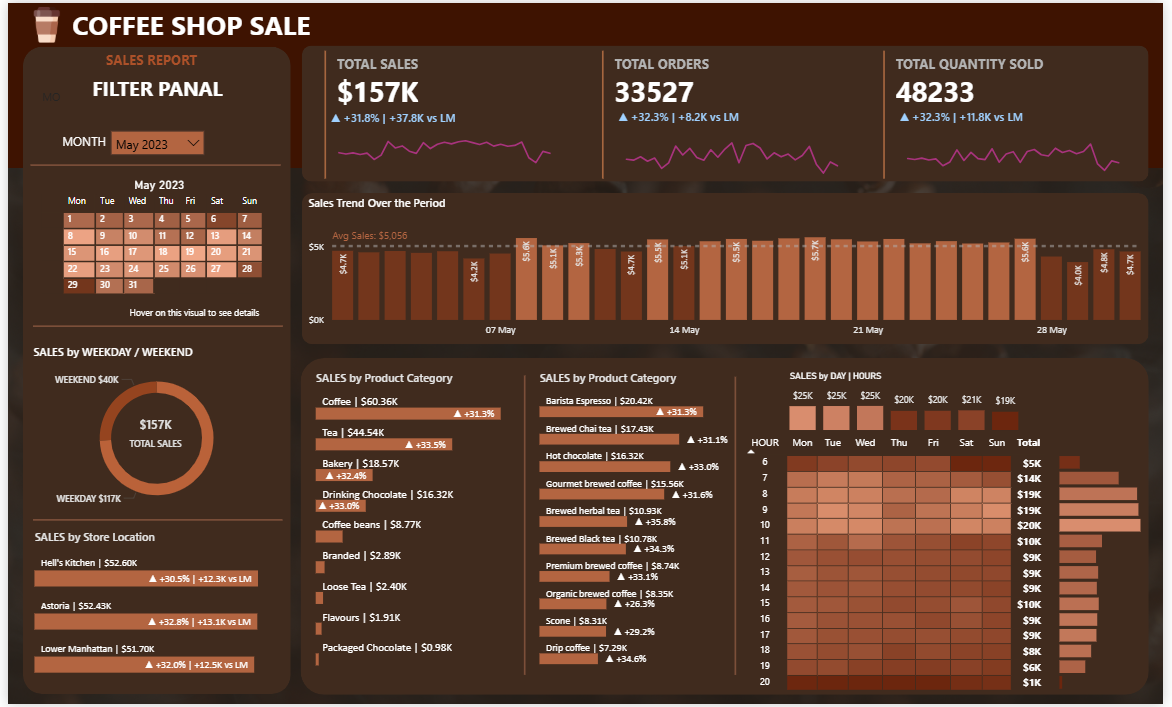

The dashboard page shown, as its layout file describes it:
{"tool":"powerbi","page":{"name":"COFFEE SHOP SALES DASHBOARD","canvas":[1400,850],"ordinal":0},"visuals":[{"type":"shape","box":[0,0,1400,200],"z":0},{"type":"pivotTable","fields":{"Rows":["DATE TABLE.WEEK NUMBER"],"Columns":["DATE TABLE.DAY NAME"],"Values":["Min(DATE TABLE.DAY NUMBER)"]},"box":[36.7,227.1,292.9,164.3],"z":0,"group":"g4"},{"type":"shape","box":[17.8,53.3,324.4,784.4],"z":1000},{"type":"card","fields":{"Values":["Min(DATE TABLE.MONTH YEAR)"]},"box":[115.3,200,137.1,44.3],"z":1000,"group":"g4"},{"type":"shape","box":[356.7,51.7,1026.7,165],"z":2000},{"type":"card","fields":{"Values":["Transactions.foot note"]},"box":[133.2,356.7,185.6,45.6],"z":2000,"group":"g4"},{"type":"textbox","box":[73,0,311.7,53.3],"z":3000},{"type":"cardVisual","fields":{"Data":["Transactions.TOTAL SALES"]},"box":[378.6,52.4,300,165.7],"z":4000,"group":"g1"},{"type":"cardVisual","fields":{"Data":["Transactions.total orders"]},"box":[714.5,52.4,300,165.7],"z":4000,"group":"g2"},{"type":"cardVisual","fields":{"Data":["Transactions.TOTAL QUANTITY SOLD"]},"box":[1056.1,52.4,300,165.7],"z":4000,"group":"g3"},{"type":"slicer","fields":{"Values":["DATE TABLE.MONTH YEAR"]},"box":[120,150,123.3,38.3],"z":4000},{"type":"group","id":"g1","title":"Group 1","box":[378.6,52.4,300,165.7],"z":5000},{"type":"group","id":"g2","title":"Group 1","box":[714.5,52.4,305.7,165.7],"z":6000},{"type":"lineChart","fields":{"Category":["DATE TABLE.Date.Variation.Date Hierarchy.Year","DATE TABLE.Date.Variation.Date Hierarchy.Quarter","DATE TABLE.Date.Variation.Date Hierarchy.Month","DATE TABLE.Date.Variation.Date Hierarchy.Day"],"Y":["Transactions.TOTAL ORDERS"]},"box":[734.5,128.5,285.7,84.3],"z":6000,"group":"g2"},{"type":"lineChart","fields":{"Category":["DATE TABLE.Date.Variation.Date Hierarchy.Year","DATE TABLE.Date.Variation.Date Hierarchy.Quarter","DATE TABLE.Date.Variation.Date Hierarchy.Month","DATE TABLE.Date.Variation.Date Hierarchy.Day"],"Y":["Transactions.TOTAL QUANTITY SOLD"]},"box":[1076.1,128.5,285.7,84.3],"z":6000,"group":"g3"},{"type":"lineChart","fields":{"Category":["DATE TABLE.Date.Variation.Date Hierarchy.Year","DATE TABLE.Date.Variation.Date Hierarchy.Quarter","DATE TABLE.Date.Variation.Date Hierarchy.Month","DATE TABLE.Date.Variation.Date Hierarchy.Day"],"Y":["Transactions.TOTAL SALES"]},"box":[385.7,129.5,285.7,84.3],"z":6000,"group":"g1"},{"type":"group","id":"g3","title":"Group 1","box":[1056.1,52.4,305.7,165.7],"z":7000},{"type":"group","id":"g4","title":"Group 2","box":[36.7,200,293.3,202.2],"z":8000},{"type":"shape","box":[30,380,302.9,22.9],"z":9000},{"type":"shape","box":[26.7,185,303.3,23.3],"z":10000},{"type":"donutChart","title":"SALES by WEEKDAY / WEEKEND","fields":{"Category":["DATE TABLE.WEEKDAY / WEEKEND"],"Y":["Transactions.TOTAL SALES"]},"box":[25.5,413.6,309.1,210.9],"z":11000},{"type":"card","fields":{"Values":["Transactions.TOTAL SALES"]},"box":[131.8,485.5,94.5,70],"z":12000},{"type":"shape","box":[30,615.5,302.7,22.7],"z":13000},{"type":"clusteredBarChart","title":"SALES by Store Location","fields":{"Category":["Transactions.store_location"],"Y":["Transactions.PLACEHOLDER","Transactions.TOTAL SALES"]},"box":[27.3,638.2,306.4,181.8],"z":14000},{"type":"shape","box":[356.7,230,1026.7,183.3],"z":15000},{"type":"columnChart","title":"Sales Trend Over the  Period","fields":{"Category":["Transactions.transaction_date"],"Y":["Transactions.TOTAL SALES"]},"box":[358.3,233.3,1025,180],"z":16000},{"type":"shape","box":[355,430,1028.3,408.3],"z":17000},{"type":"clusteredBarChart","title":"SALES by Product Category","fields":{"Y":["Transactions.PLACEHOLDER","Transactions.TOTAL SALES"],"Category":["Transactions.product_category"]},"box":[368.3,445,265,363.3],"z":18000},{"type":"shape","box":[622.9,451.4,7.1,362.9],"z":19000},{"type":"clusteredBarChart","title":"SALES by Product Category","fields":{"Y":["Transactions.PLACEHOLDER","Transactions.TOTAL SALES"],"Category":["Transactions.product_type"]},"box":[640,445,241.7,361.7],"z":20000},{"type":"shape","box":[878.6,452.9,5.7,361.4],"z":21000},{"type":"pivotTable","fields":{"Rows":["Transactions.HOUR"],"Columns":["DATE TABLE.DAY NAME"],"Values":["Transactions.TOTAL SALES"]},"box":[886.7,520,383.3,318.3],"z":22000},{"type":"barChart","fields":{"Category":["Transactions.HOUR"],"Y":["Transactions.TOTAL SALES"]},"box":[1270,536.7,110,300],"z":23000},{"type":"columnChart","title":"SALES by DAY | HOURS","fields":{"Y":["Transactions.TOTAL SALES"],"Category":["DATE TABLE.DAY NAME"]},"box":[941.7,445,288.3,78.3],"z":24000},{"type":"textbox","box":[36.7,100,83.3,35],"z":25000},{"type":"textbox","box":[60,153.3,71.7,35],"z":26000},{"type":"textbox","box":[96.7,81.7,201.7,53.3],"z":27000},{"type":"image","box":[18,0,58.3,53.3],"z":28000},{"type":"textbox","box":[113.3,53.3,138.3,35],"z":29000}]}

Visuals, with their boxes in screenshot pixels (x1, y1, x2, y2), scaled from the page's 1400x850 canvas onto the 1172x707 screenshot:
shape: x1=0 y1=0 x2=1171 y2=166
pivotTable - DATE TABLE.WEEK NUMBER x DATE TABLE.DAY NAME: x1=31 y1=189 x2=276 y2=326
shape: x1=15 y1=44 x2=286 y2=697
card - Min(DATE TABLE.MONTH YEAR): x1=97 y1=166 x2=211 y2=203
shape: x1=299 y1=43 x2=1158 y2=180
card - Transactions.foot note: x1=112 y1=297 x2=267 y2=335
textbox: x1=61 y1=0 x2=322 y2=44
cardVisual - Transactions.TOTAL SALES: x1=317 y1=44 x2=568 y2=181
cardVisual - Transactions.total orders: x1=598 y1=44 x2=849 y2=181
cardVisual - Transactions.TOTAL QUANTITY SOLD: x1=884 y1=44 x2=1135 y2=181
slicer - DATE TABLE.MONTH YEAR: x1=100 y1=125 x2=204 y2=157
"Group 1" group: x1=317 y1=44 x2=568 y2=181
"Group 1" group: x1=598 y1=44 x2=854 y2=181
lineChart - DATE TABLE.Date.Variation.Date Hierarchy.Year x DATE TABLE.Date.Variation.Date Hierarchy.Quarter: x1=615 y1=107 x2=854 y2=177
lineChart - DATE TABLE.Date.Variation.Date Hierarchy.Year x DATE TABLE.Date.Variation.Date Hierarchy.Quarter: x1=901 y1=107 x2=1140 y2=177
lineChart - DATE TABLE.Date.Variation.Date Hierarchy.Year x DATE TABLE.Date.Variation.Date Hierarchy.Quarter: x1=323 y1=108 x2=562 y2=178
"Group 1" group: x1=884 y1=44 x2=1140 y2=181
"Group 2" group: x1=31 y1=166 x2=276 y2=335
shape: x1=25 y1=316 x2=279 y2=335
shape: x1=22 y1=154 x2=276 y2=173
"SALES by WEEKDAY / WEEKEND" donutChart: x1=21 y1=344 x2=280 y2=519
card - Transactions.TOTAL SALES: x1=110 y1=404 x2=189 y2=462
shape: x1=25 y1=512 x2=279 y2=531
"SALES by Store Location" clusteredBarChart: x1=23 y1=531 x2=279 y2=682
shape: x1=299 y1=191 x2=1158 y2=344
"Sales Trend Over the  Period" columnChart: x1=300 y1=194 x2=1158 y2=344
shape: x1=297 y1=358 x2=1158 y2=697
"SALES by Product Category" clusteredBarChart: x1=308 y1=370 x2=530 y2=672
shape: x1=521 y1=375 x2=527 y2=677
"SALES by Product Category" clusteredBarChart: x1=536 y1=370 x2=738 y2=671
shape: x1=736 y1=377 x2=740 y2=677
pivotTable - Transactions.HOUR x DATE TABLE.DAY NAME: x1=742 y1=433 x2=1063 y2=697
barChart - Transactions.HOUR x Transactions.TOTAL SALES: x1=1063 y1=446 x2=1155 y2=696
"SALES by DAY | HOURS" columnChart: x1=788 y1=370 x2=1030 y2=435
textbox: x1=31 y1=83 x2=100 y2=112
textbox: x1=50 y1=128 x2=110 y2=157
textbox: x1=81 y1=68 x2=250 y2=112
image: x1=15 y1=0 x2=64 y2=44
textbox: x1=95 y1=44 x2=211 y2=73
